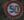Speed Limit -50-: (0, 0, 23, 19)
